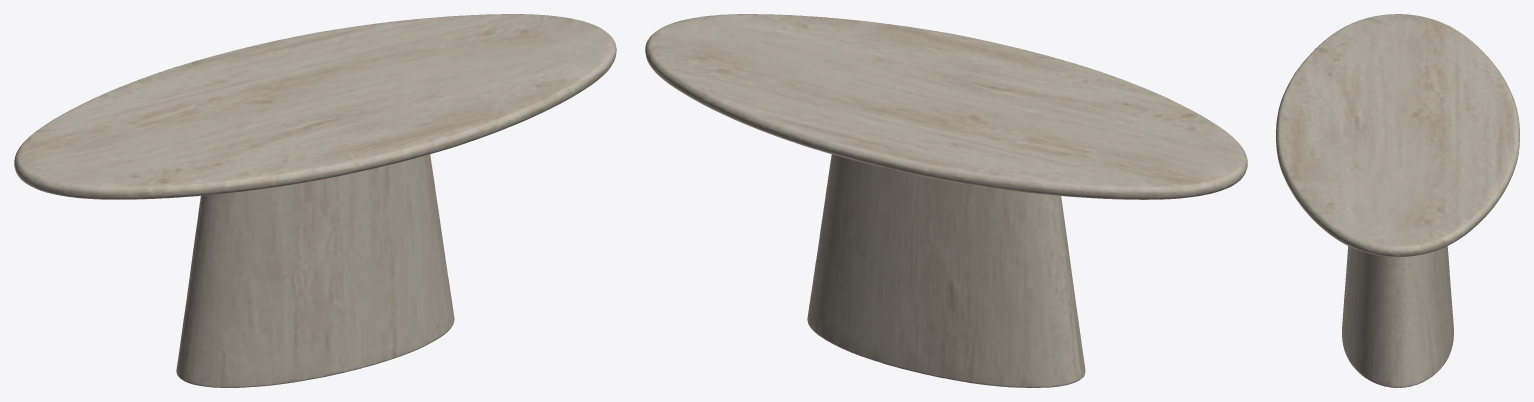
Rendered from item-22.glb.
The picture shows the model from 3 angles, left to right: view 1: azimuth 30°, elevation 25°; view 2: azimuth 150°, elevation 25°; view 3: azimuth 270°, elevation 25°; orthographic projection. The views are drawn at different scales.
Visible parts, largest first — view 1: geometry_0; view 2: geometry_0; view 3: geometry_0.
Part boxes in pixels (x1,y1,x2,y2): geometry_0: [14, 14, 616, 387]; geometry_0: [645, 14, 1247, 387]; geometry_0: [1276, 14, 1519, 387].
Bounding box in the file's own units: 1 × 0.4052 × 0.439.
Materials: 1 (1 with a texture image).
